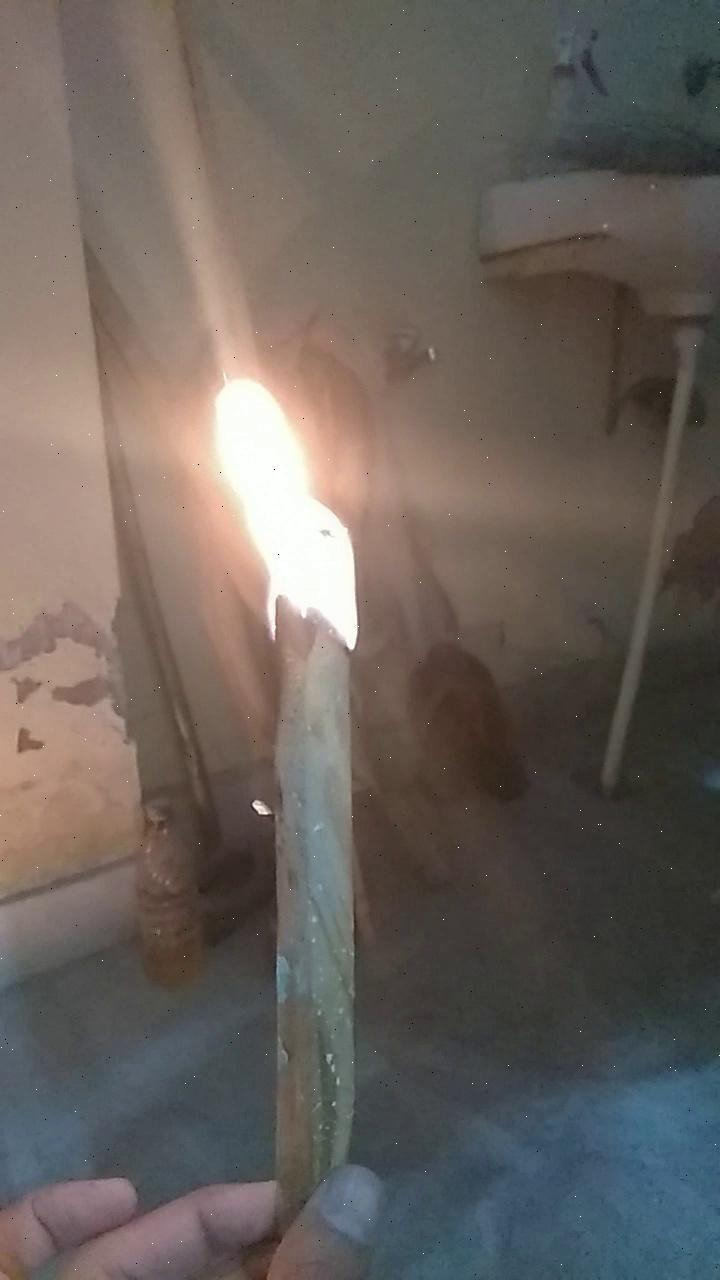fire: (156, 298, 401, 623)
